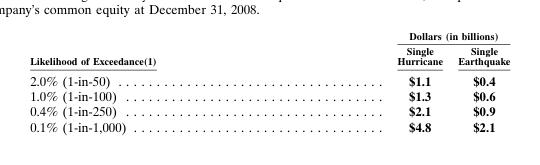table: (29, 29, 509, 133)
table column: (29, 29, 276, 133), (276, 29, 449, 133), (449, 29, 509, 133)
table column header: (29, 29, 509, 69)
table row: (29, 42, 509, 69), (29, 69, 509, 87), (29, 87, 509, 103), (29, 103, 509, 118), (29, 118, 509, 133), (29, 29, 509, 42)
table spanning cell: (29, 29, 276, 69), (276, 29, 509, 42)
